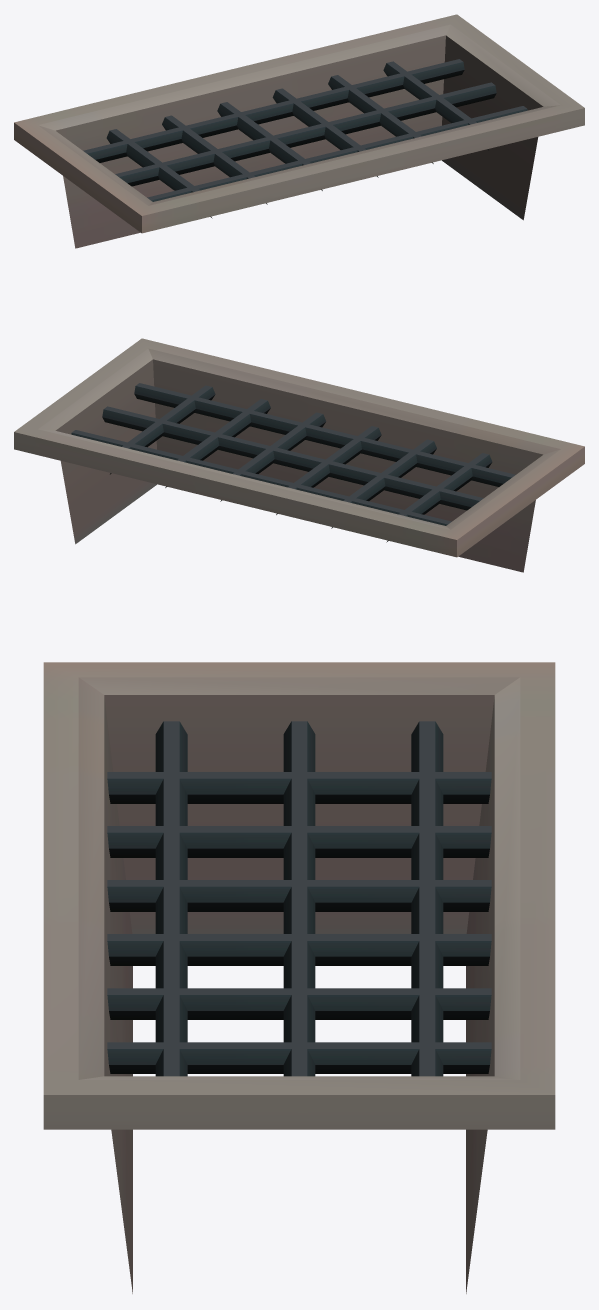
File: floor_tile_grate_open.glb
3 views of the same model, one above another, from view 1: azimuth 30°, elevation 25°; view 2: azimuth 150°, elevation 25°; view 3: azimuth 270°, elevation 25° (orthographic). The views are drawn at different scales.
Parts seen in each view (by area): view 1: floor_tile_grate_open; view 2: floor_tile_grate_open; view 3: floor_tile_grate_open.
Part boxes in pixels (x1=…): floor_tile_grate_open: x1=14, y1=14, x2=584, y2=248; floor_tile_grate_open: x1=14, y1=338, x2=584, y2=572; floor_tile_grate_open: x1=43, y1=662, x2=555, y2=1293.
Bounding box in the file's own units: 4 × 1.03 × 2.
Materials: 1 (1 with a texture image).
